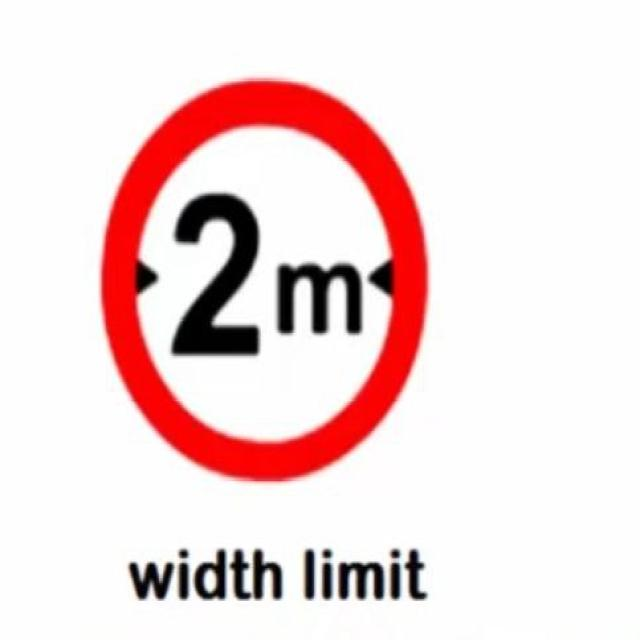width_limit: (103, 80, 431, 479)
